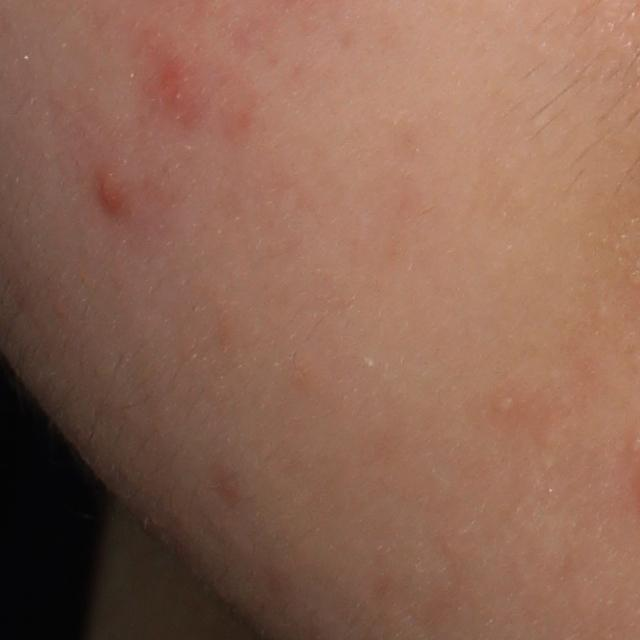papule: (91, 163, 133, 224)
